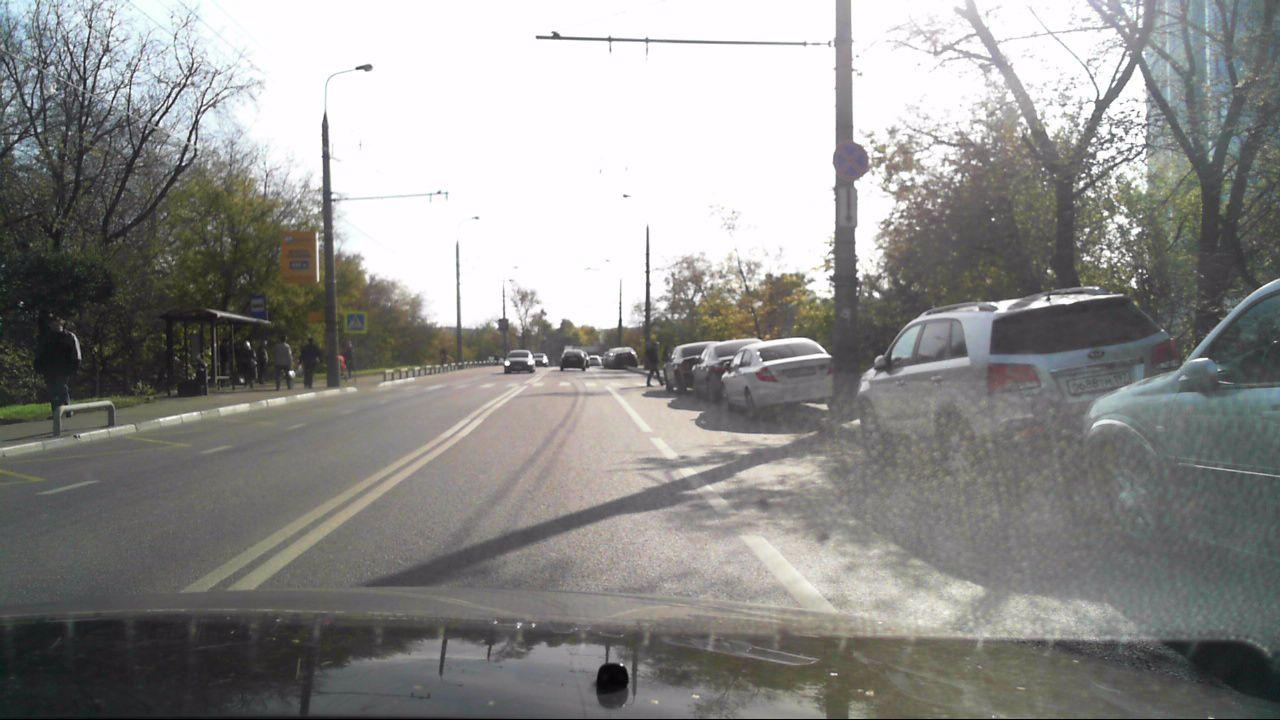3_27: (831, 141, 871, 181)
5_16: (250, 295, 267, 319)
5_19_2: (346, 313, 364, 332)
8_2_3: (836, 187, 858, 230)
